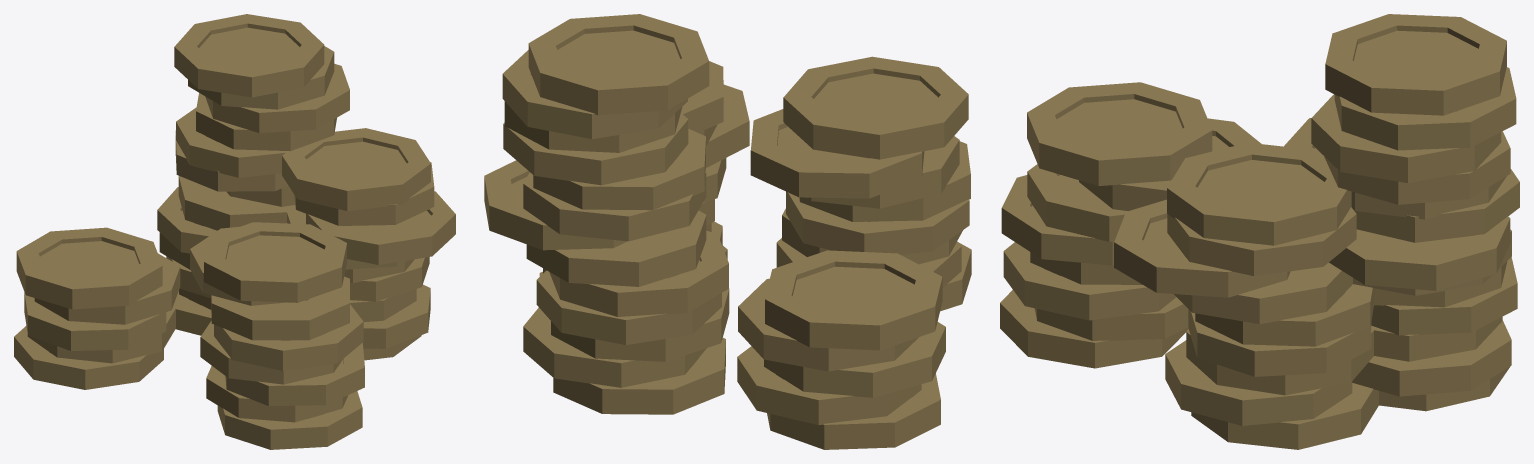
Rendered from moneda2.glb.
3 renders of one model, left to right at view 1: azimuth 30°, elevation 25°; view 2: azimuth 150°, elevation 25°; view 3: azimuth 270°, elevation 25°, orthographic. The views are drawn at different scales.
Parts seen in each view (by area): view 1: Coin_Pile_Cylinder.045; view 2: Coin_Pile_Cylinder.045; view 3: Coin_Pile_Cylinder.045.
Part boxes in pixels (bbox=[...]): Coin_Pile_Cylinder.045: bbox=[14, 14, 455, 449]; Coin_Pile_Cylinder.045: bbox=[484, 14, 971, 449]; Coin_Pile_Cylinder.045: bbox=[1000, 14, 1519, 449].
Bounding box in the file's own units: 0.1364 × 0.0946 × 0.1354.
